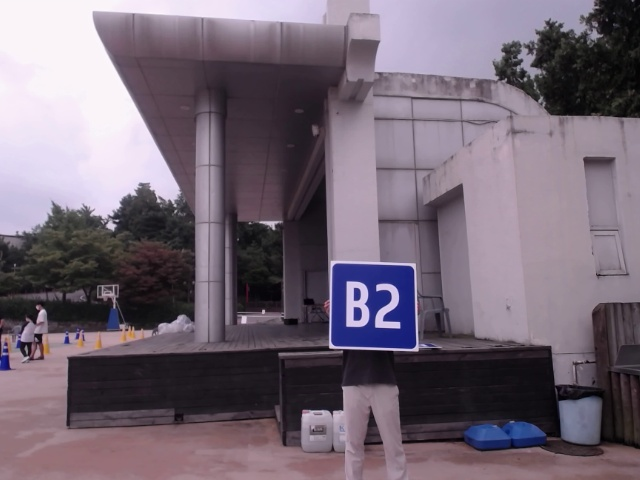delivery_b2: (331, 260, 419, 353)
